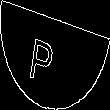P_N: (40, 26, 70, 84)
